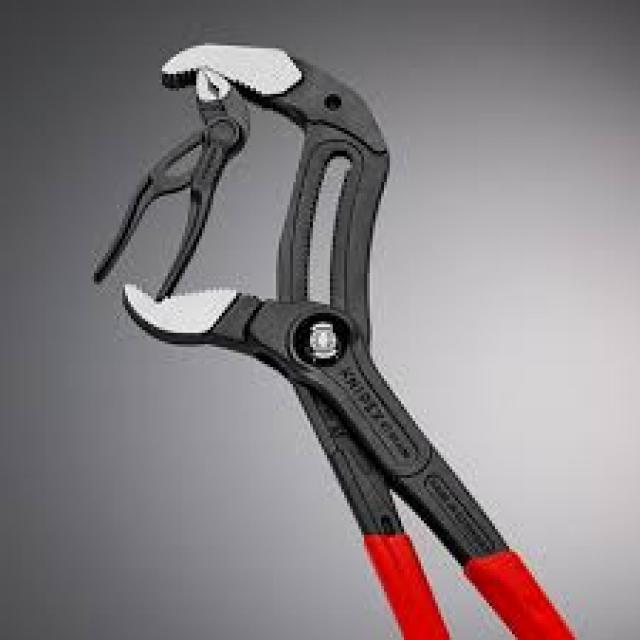pliers: (90, 68, 252, 300)
